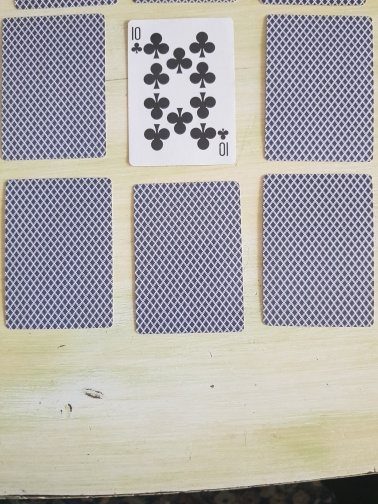ten: (125, 17, 237, 167)
